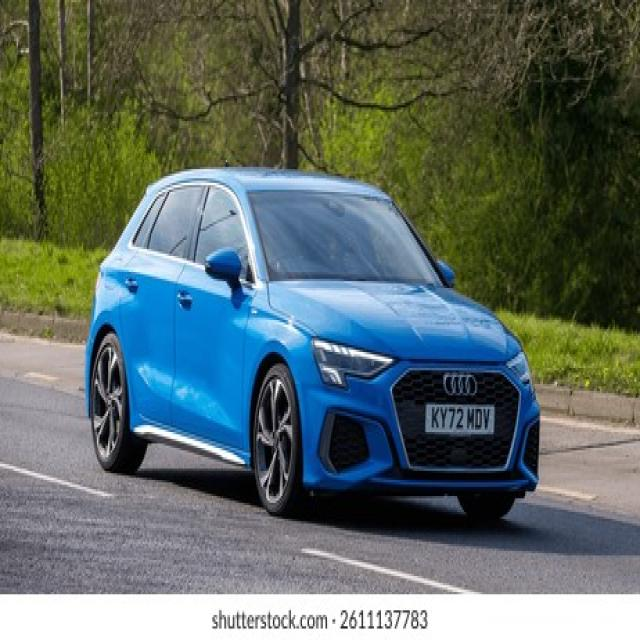audi: (442, 372, 479, 397)
